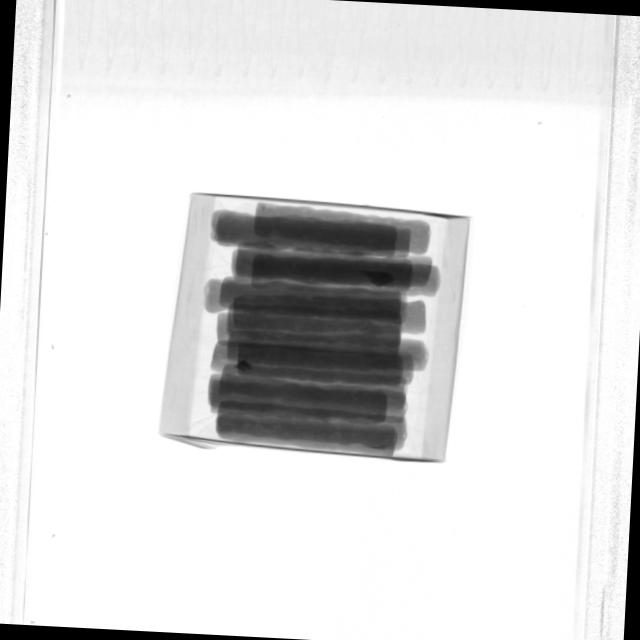ym: (358, 268, 396, 289), (234, 360, 254, 374), (369, 445, 389, 452), (259, 203, 267, 213)
